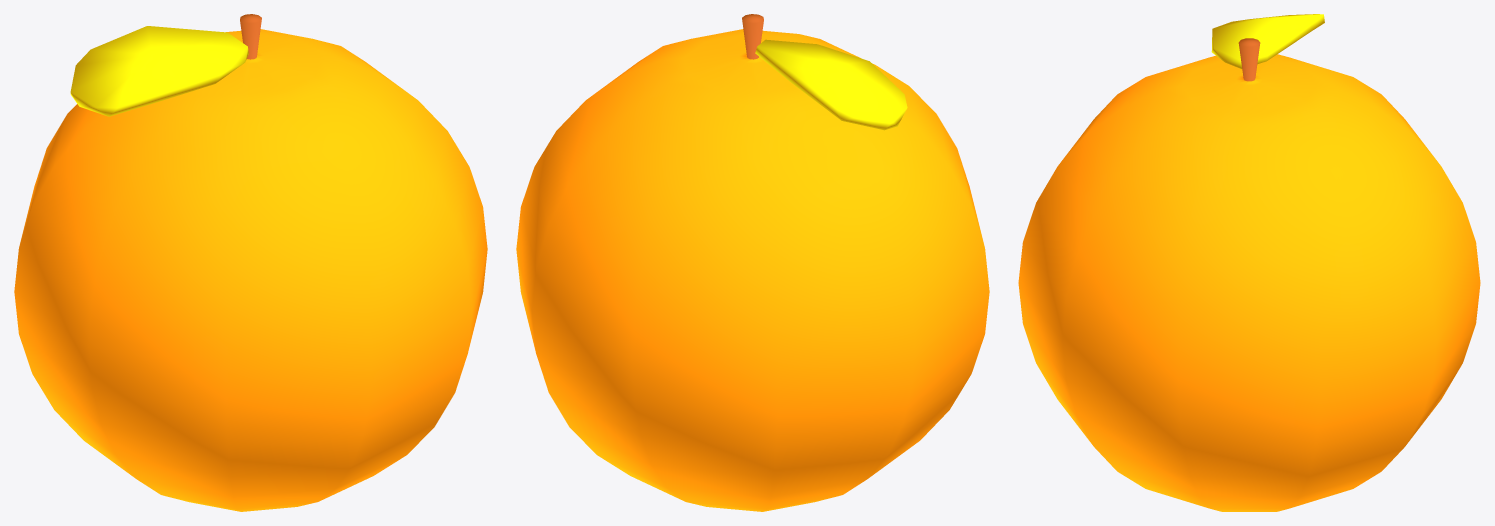
The model's file is orange_orange.glb.
3 views of the same model, side by side, from view 1: azimuth 30°, elevation 25°; view 2: azimuth 150°, elevation 25°; view 3: azimuth 270°, elevation 25° (orthographic). The views are drawn at different scales.
Parts seen in each view (by area): view 1: Orange_Orange; view 2: Orange_Orange; view 3: Orange_Orange.
Part boxes in pixels (left/top/right/bottom): Orange_Orange: left=14, top=14, right=487, bottom=511; Orange_Orange: left=516, top=14, right=989, bottom=511; Orange_Orange: left=1018, top=14, right=1480, bottom=511.
Size of the model in its own units: 0.4088 by 0.4627 by 0.4299.
1 material, 1 textured.
